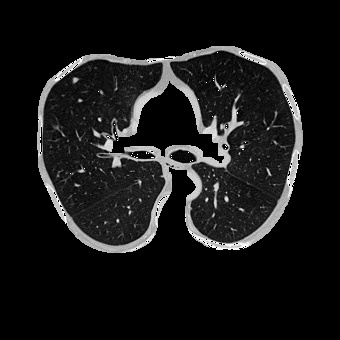PN: (72, 76, 78, 82)
